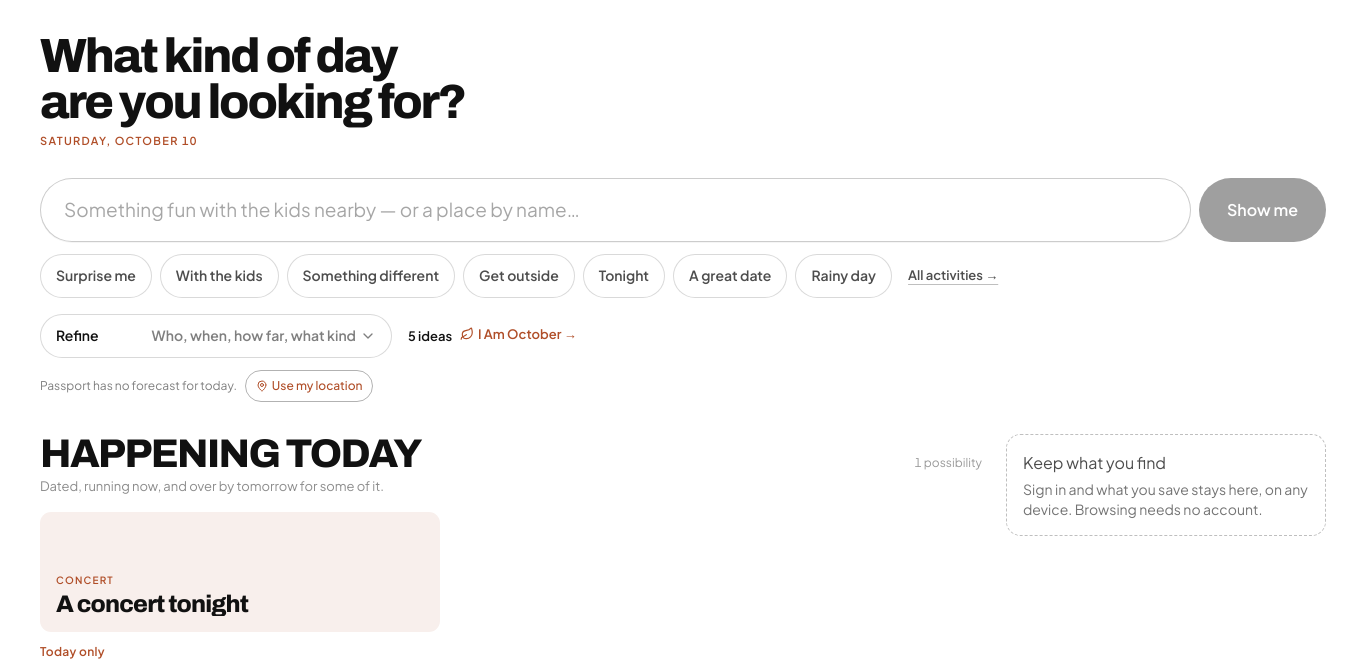
an intent refines the page rather than replacing the product › lets a name lead whatever else the sentence was read as
Type "Kalamoir Park with the kids" into the field with test id "ask-input" at (616, 210), box [40, 178, 1191, 242]
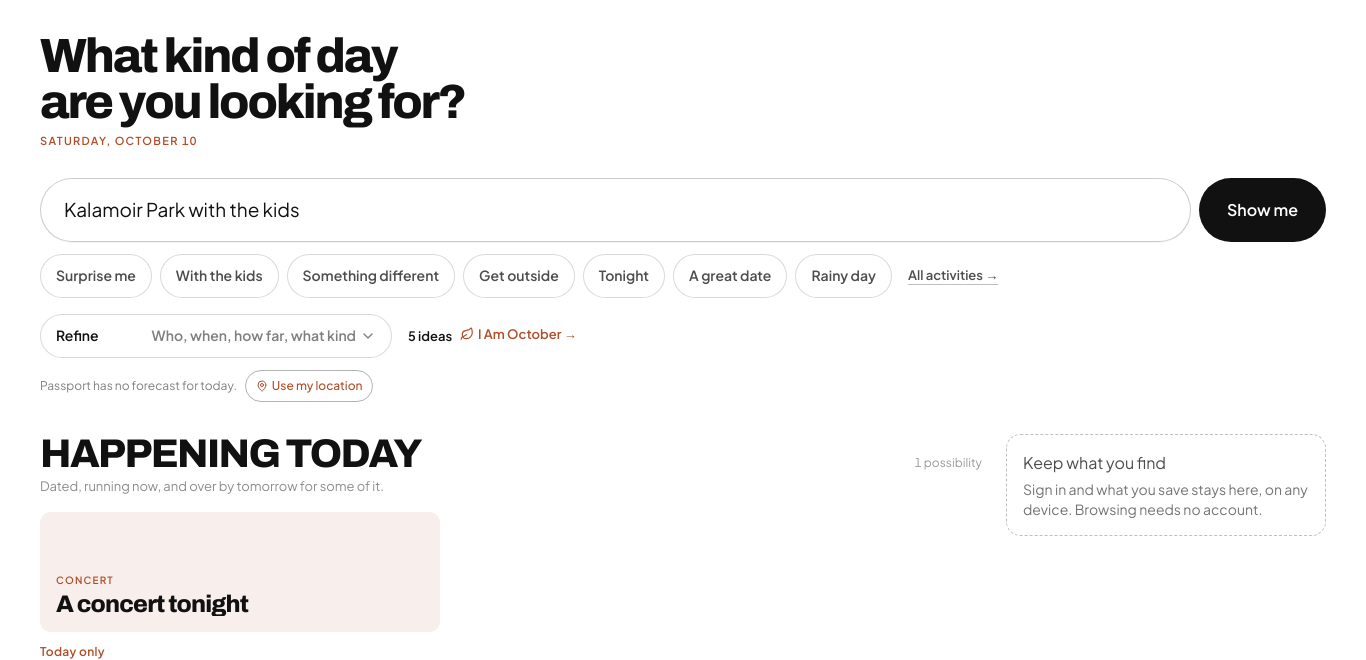
Click the button with test id "ask-submit" at (1262, 210), box [1199, 178, 1326, 242]
(page scrolled)
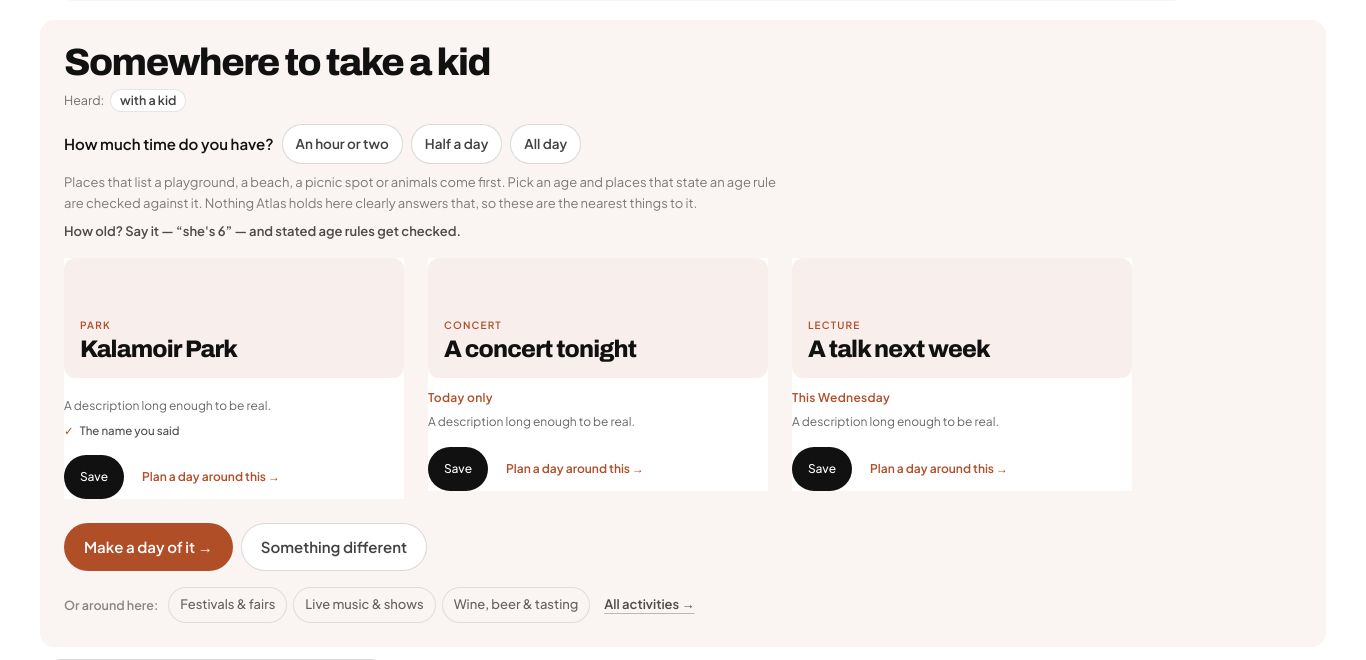
Now the list item with test id "possibility" shows "Kalamoir Park", box [80, 336, 237, 362]
